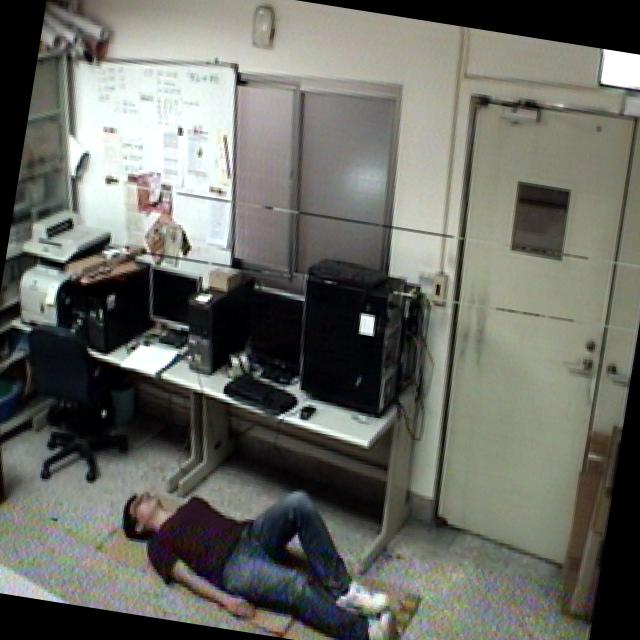lie: (100, 463, 421, 640)
